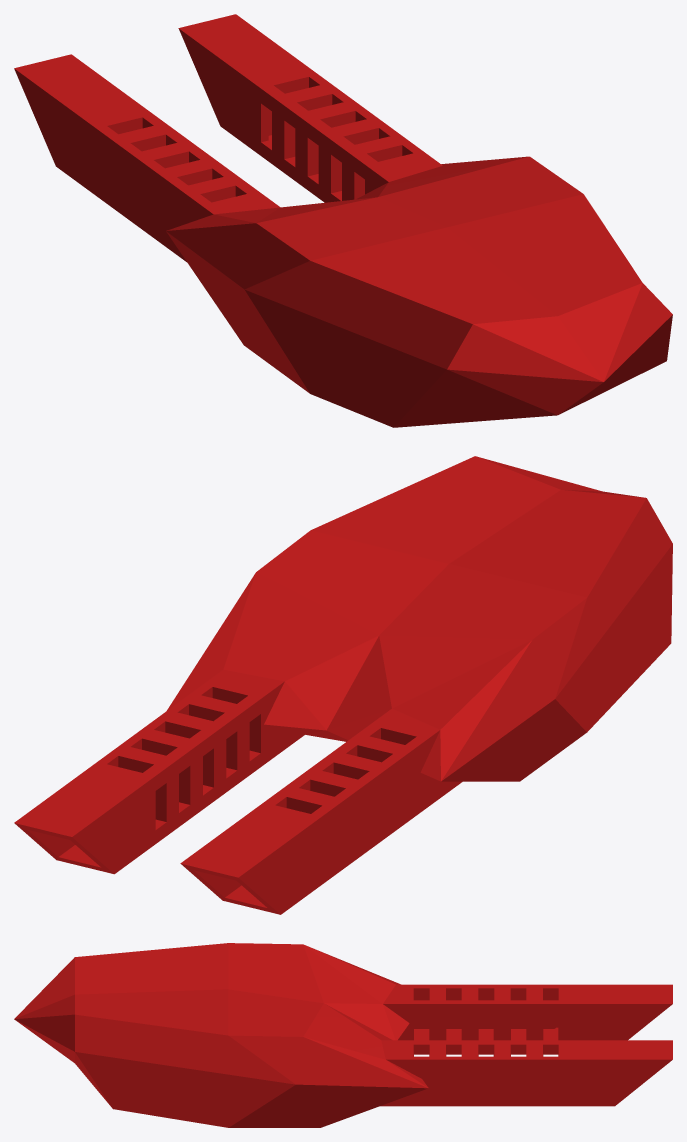
Rendered from tank_turret.fbx.
3 views of the same model, one above another, from view 1: azimuth 30°, elevation 25°; view 2: azimuth 150°, elevation 25°; view 3: azimuth 270°, elevation 25° (orthographic). The views are drawn at different scales.
Parts seen in each view (by area): view 1: Cube.000; view 2: Cube.000; view 3: Cube.000.
Boxes of the visible parts, x1,y1,x2,y2 form: Cube.000: (14,14,672,427); Cube.000: (14,456,672,914); Cube.000: (14,943,672,1127).
Size of the model in its own units: 228 by 96.6 by 602.
